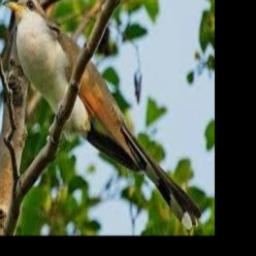Cuckoo: (3, 0, 202, 227)
